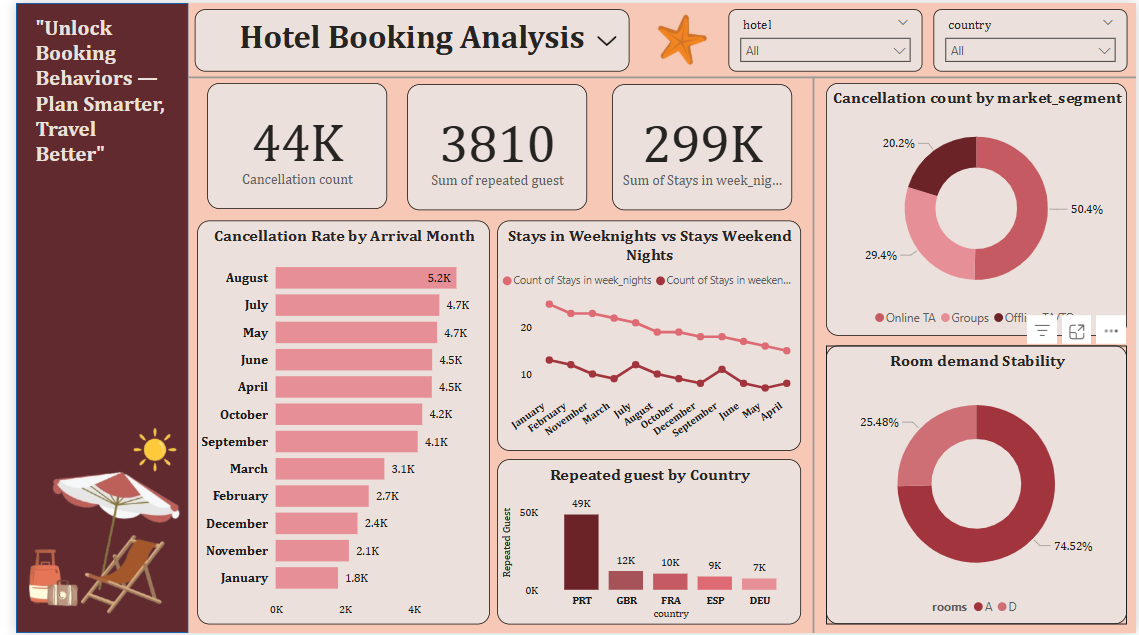

The dashboard page shown, as its layout file describes it:
{"tool":"powerbi","page":{"name":"Hotel Dashboard","canvas":[1280,720],"ordinal":0},"visuals":[{"type":"shape","box":[0,0,197.1,720],"z":0},{"type":"shape","box":[197.1,78.6,1082.9,12.9],"z":1000},{"type":"shape","box":[897.1,84.3,28.6,635.7],"z":2000},{"type":"textbox","box":[204.3,7.1,497.1,71.4],"z":3000},{"type":"image","box":[652.9,24.3,44.3,38.6],"z":4000},{"type":"barChart","title":"Cancellation Rate by Arrival Month","fields":{"Category":["Hotel Booking.arrival date month"],"Y":["Hotel Booking.Cancellation count"]},"box":[207.1,248.6,334.3,461.4],"z":5000},{"type":"lineChart","title":"Stays in Weeknights  vs Stays Weekend Nights","fields":{"Category":["Hotel Booking.arrival date month"],"Y":["Count(Hotel Booking.Stays in week_nights)","Count(Hotel Booking.Stays in weekend nights)"]},"box":[550,248.6,347.1,262.9],"z":6000},{"type":"columnChart","title":"Repeated guest by Country","fields":{"Category":["Hotel Booking.country"],"Y":["CountNonNull(Hotel Booking.repeated guest)"]},"box":[550,521.4,347.1,188.6],"z":7000},{"type":"donutChart","fields":{"Category":["Hotel Booking.market_segment"],"Y":["Hotel Booking.Cancellation count"]},"box":[925.7,91.4,344.3,288.6],"z":8000},{"type":"pieChart","title":"Room demand Stability","fields":{"Category":["Hotel Booking.assigned_room_type"],"Y":["CountNonNull(Hotel Booking.previous_bookings_not_canceled)"]},"box":[925.7,391.4,344.3,318.6],"z":9000},{"type":"card","fields":{"Values":["Hotel Booking.Cancellation count"]},"box":[218.6,91.4,205.7,144.3],"z":10000},{"type":"card","fields":{"Values":["Sum(Hotel Booking.repeated guest)"]},"box":[447.1,92.9,205.7,144.3],"z":11000},{"type":"card","fields":{"Values":["Sum(Hotel Booking.Stays in week_nights)"]},"box":[681.4,92.9,205.7,144.3],"z":12000},{"type":"slicer","fields":{"Values":["Hotel Booking.country"]},"box":[1048.6,7.1,221.4,71.4],"z":13000},{"type":"slicer","fields":{"Values":["Hotel Booking.hotel"]},"box":[814.3,7.1,221.4,71.4],"z":14000},{"type":"textbox","box":[17.1,8.6,162.9,228.6],"z":15000},{"type":"image","box":[2.9,464.3,197.1,255.7],"z":15001},{"type":"image","box":[724.3,5.7,72.9,72.9],"z":15002}]}

Visuals, with their boxes in screenshot pixels (x1, y1, x2, y2), scaled from the page's 1280x720 canvas onto the 1139x635 screenshot:
shape: l=0, t=0, r=175, b=634
shape: l=175, t=69, r=1138, b=81
shape: l=798, t=74, r=824, b=634
textbox: l=182, t=6, r=624, b=69
image: l=581, t=21, r=620, b=55
"Cancellation Rate by Arrival Month" barChart: l=184, t=219, r=482, b=626
"Stays in Weeknights  vs Stays Weekend Nights" lineChart: l=489, t=219, r=798, b=451
"Repeated guest by Country" columnChart: l=489, t=460, r=798, b=626
donutChart - Hotel Booking.market_segment x Hotel Booking.Cancellation count: l=824, t=81, r=1130, b=335
"Room demand Stability" pieChart: l=824, t=345, r=1130, b=626
card - Hotel Booking.Cancellation count: l=195, t=81, r=378, b=208
card - Sum(Hotel Booking.repeated guest): l=398, t=82, r=581, b=209
card - Sum(Hotel Booking.Stays in week_nights): l=606, t=82, r=789, b=209
slicer - Hotel Booking.country: l=933, t=6, r=1130, b=69
slicer - Hotel Booking.hotel: l=725, t=6, r=922, b=69
textbox: l=15, t=8, r=160, b=209
image: l=3, t=409, r=178, b=634
image: l=645, t=5, r=709, b=69
